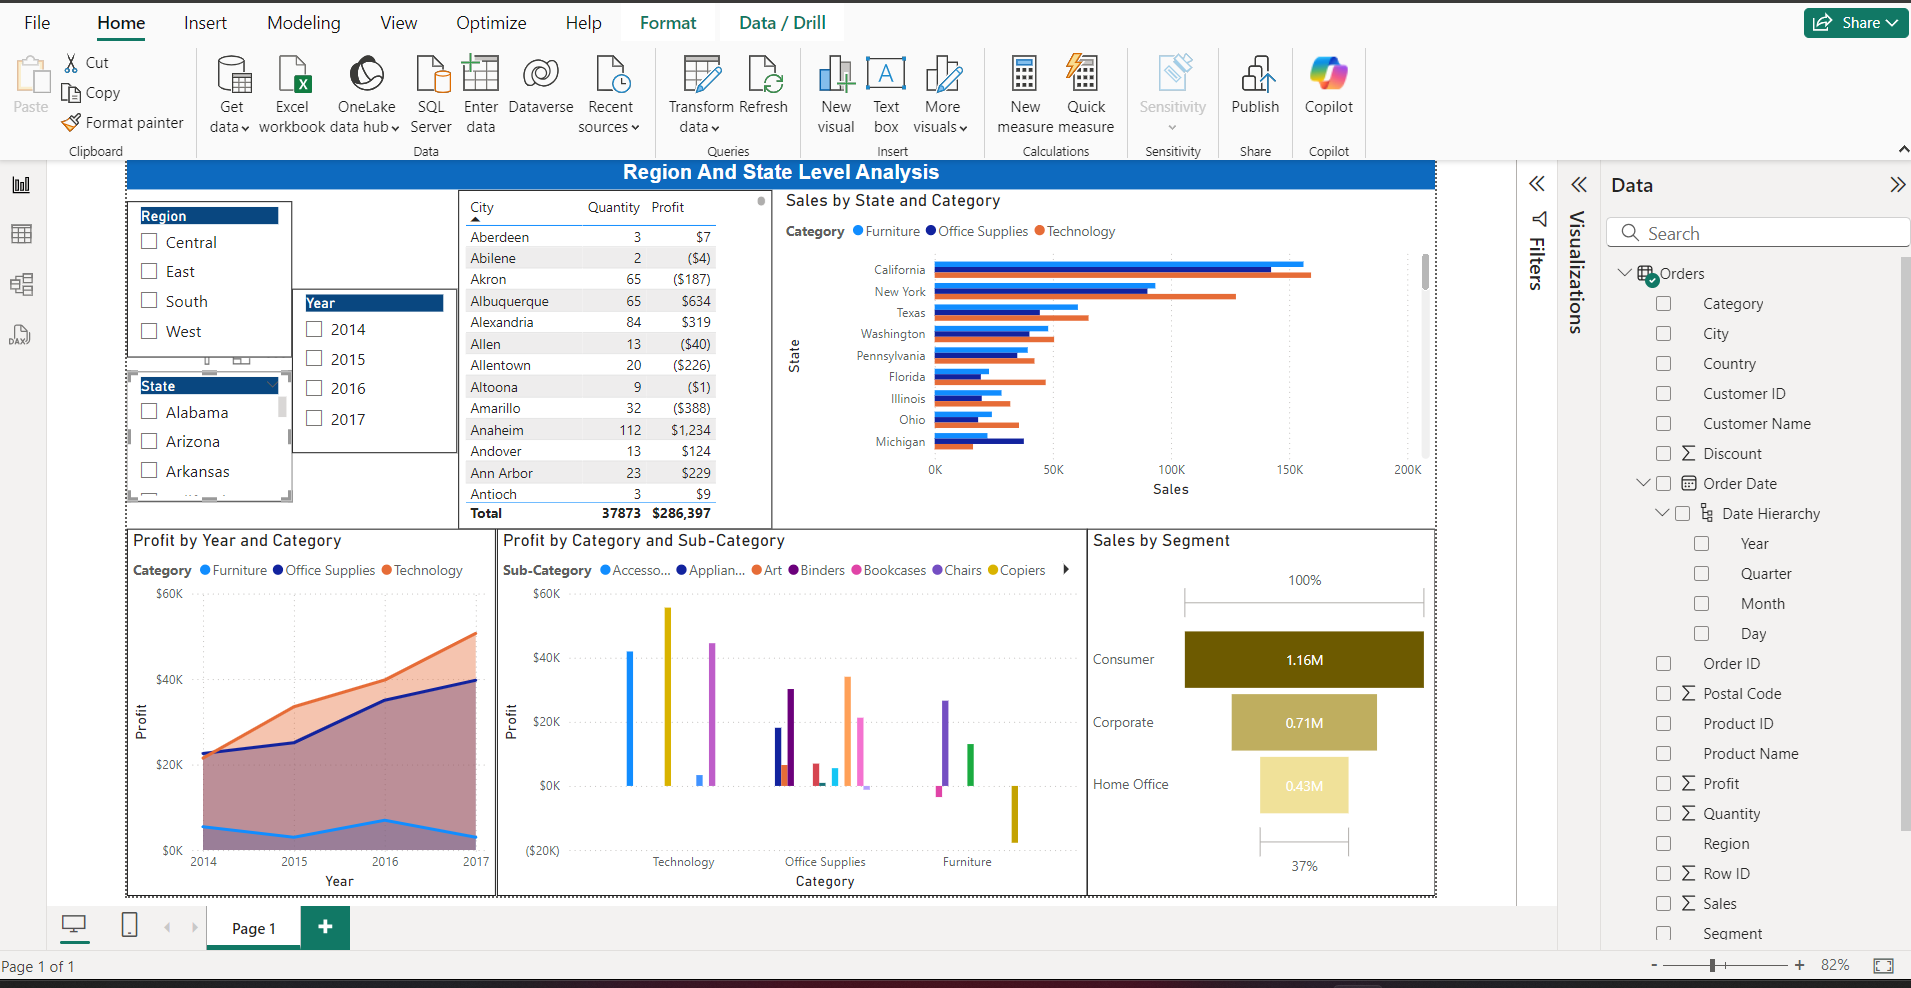

Layout of this report page (visuals, bound fields, positions):
{"tool":"powerbi","page":{"name":"Page 1","canvas":[1280,720],"ordinal":0},"visuals":[{"type":"slicer","fields":{"Values":["Orders.State"]},"box":[0,206.4,162,128],"z":0},{"type":"slicer","fields":{"Values":["Orders.Order Date.Variation.Date Hierarchy.Year"]},"box":[162,125.4,162,160.7],"z":1000},{"type":"slicer","fields":{"Values":["Orders.Region"]},"box":[0,40.5,162,152.8],"z":2000},{"type":"textbox","title":"Region And State Level Analysis","box":[0,0,1280.3,28.7],"z":3000},{"type":"tableEx","fields":{"Values":["Orders.City","Sum(Orders.Quantity)","Sum(Orders.Profit)"]},"box":[324,28.7,307,331.8],"z":4000},{"type":"clusteredBarChart","fields":{"Category":["Orders.State"],"Y":["Sum(Orders.Sales)"],"Series":["Orders.Category"]},"box":[640.1,28.7,640.1,305.7],"z":5000},{"type":"areaChart","fields":{"Category":["Orders.Order Date.Variation.Date Hierarchy.Year"],"Series":["Orders.Category"],"Y":["Sum(Orders.Profit)"]},"box":[0,360.6,360.6,359.3],"z":6000},{"type":"clusteredColumnChart","fields":{"Category":["Orders.Category"],"Y":["Sum(Orders.Profit)"],"Series":["Orders.Sub-Category"]},"box":[361.9,360.6,577.4,359.3],"z":7000},{"type":"funnel","fields":{"Category":["Orders.Segment"],"Y":["Sum(Orders.Sales)"]},"box":[939.3,360.6,341,359.3],"z":8000}]}

Visuals, with their boxes on the page's 1280x720 design canvas (x1, y1, x2, y2). These are canvas units, not pixel positions in the 1911x988 screenshot, which may show the page scaled, cropped or inside an application window:
slicer - Orders.State: left=0, top=206, right=162, bottom=334
slicer - Orders.Order Date.Variation.Date Hierarchy.Year: left=162, top=125, right=324, bottom=286
slicer - Orders.Region: left=0, top=40, right=162, bottom=193
"Region And State Level Analysis" textbox: left=0, top=0, right=1280, bottom=29
tableEx - Orders.City x Sum(Orders.Quantity): left=324, top=29, right=631, bottom=360
clusteredBarChart - Orders.State x Sum(Orders.Sales): left=640, top=29, right=1280, bottom=334
areaChart - Orders.Order Date.Variation.Date Hierarchy.Year x Orders.Category: left=0, top=361, right=361, bottom=720
clusteredColumnChart - Orders.Category x Sum(Orders.Profit): left=362, top=361, right=939, bottom=720
funnel - Orders.Segment x Sum(Orders.Sales): left=939, top=361, right=1280, bottom=720
